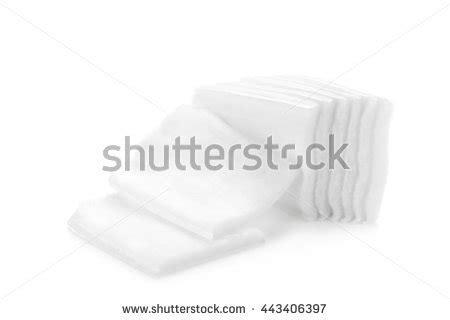cotton: (69, 70, 390, 278)
